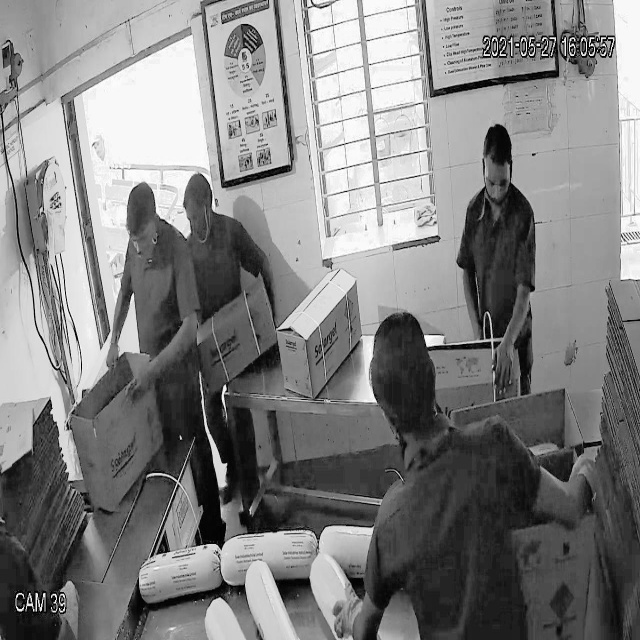Sin_gafas: (481, 164, 516, 200)
